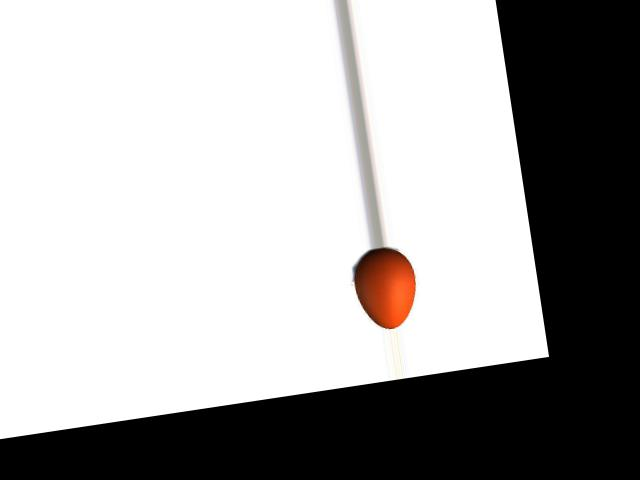egg: (349, 244, 421, 332)
